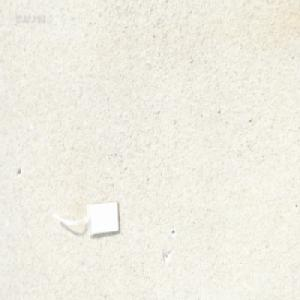LuggageTag: (54, 197, 123, 238)
